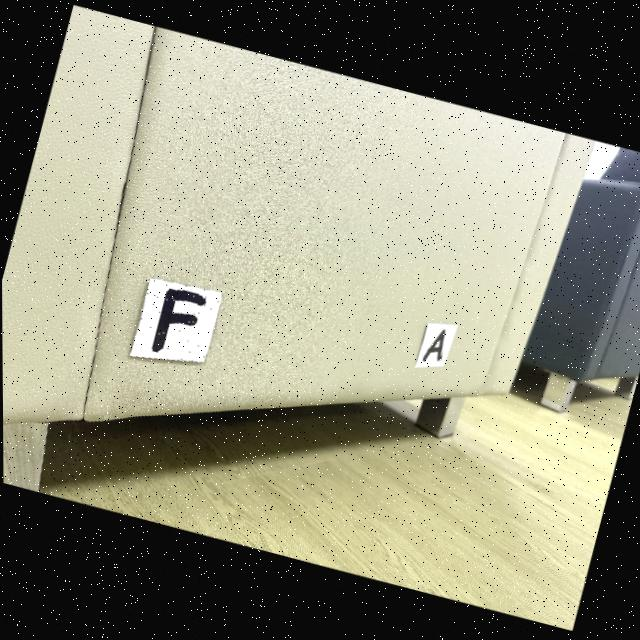A: (422, 330, 445, 362)
V: (129, 278, 221, 363), (151, 289, 205, 352)
